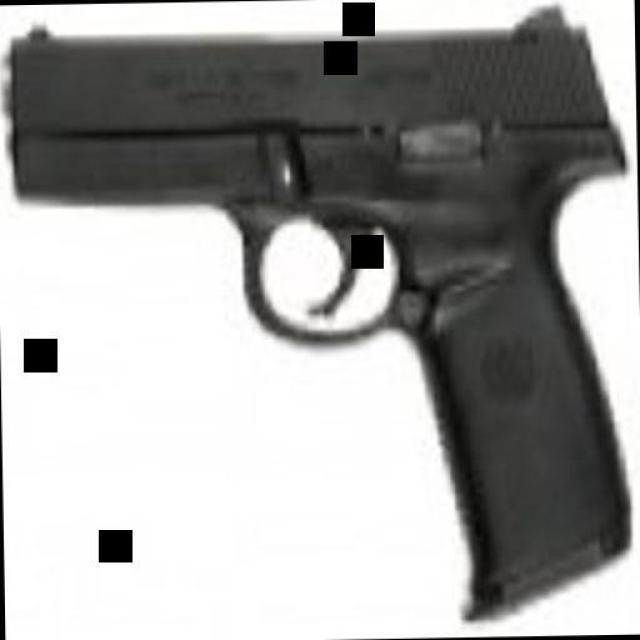gun: (0, 8, 624, 622)
